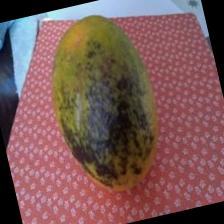Orange Rotten: (28, 0, 183, 209)
